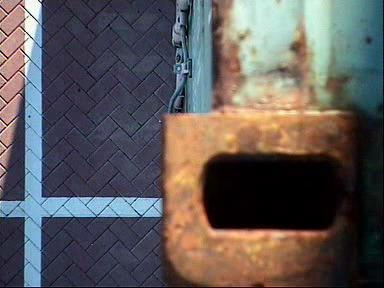groundmarker_2: (190, 31, 238, 94)
